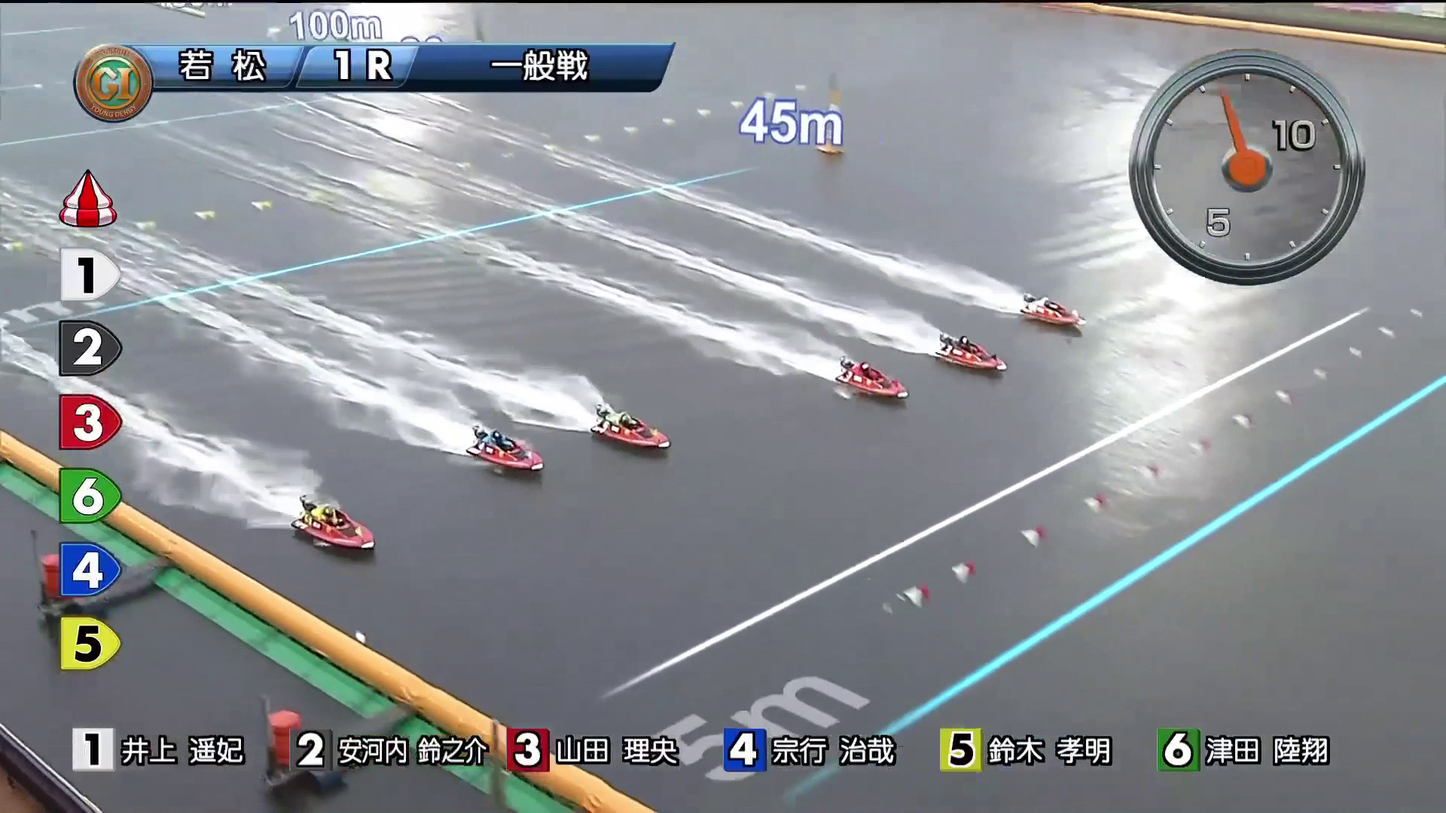１号艇: (1004, 280, 1069, 327)
２号艇: (940, 327, 1001, 364)
３号艇: (839, 353, 894, 395)
４号艇: (605, 408, 668, 451)
５号艇: (478, 447, 547, 485)
６号艇: (330, 534, 395, 580)
